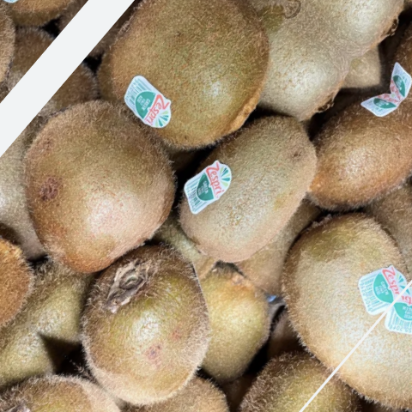kiwi: (0, 61, 226, 310), (67, 0, 317, 196), (24, 209, 263, 412), (142, 85, 358, 307), (243, 175, 412, 377)
